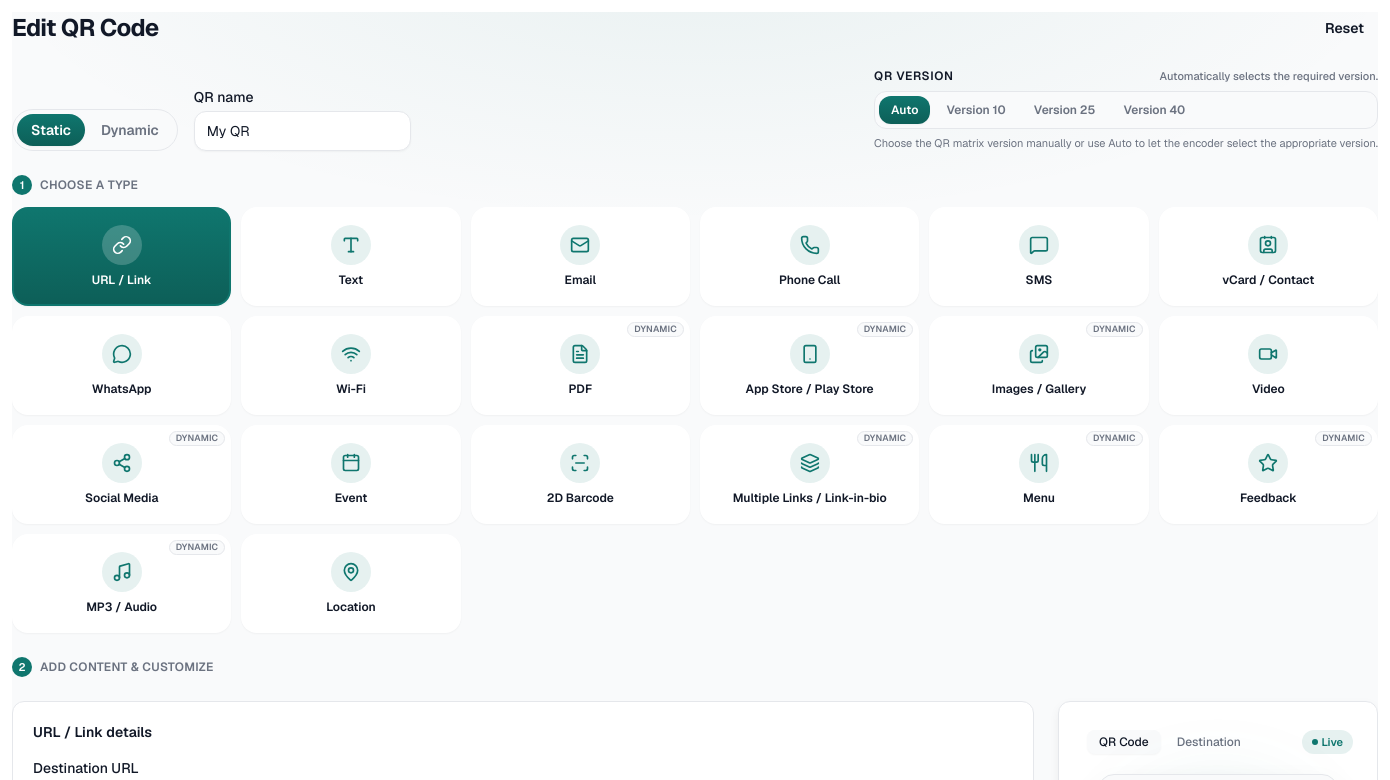
Test case: QRGeneratorShell edit variant (Module 2.7) › Reset restores the initial name and clears the dirty indicator
In the field labelled "QR name": (302, 131) x1=194 y1=111 x2=411 y2=151, type " updated"
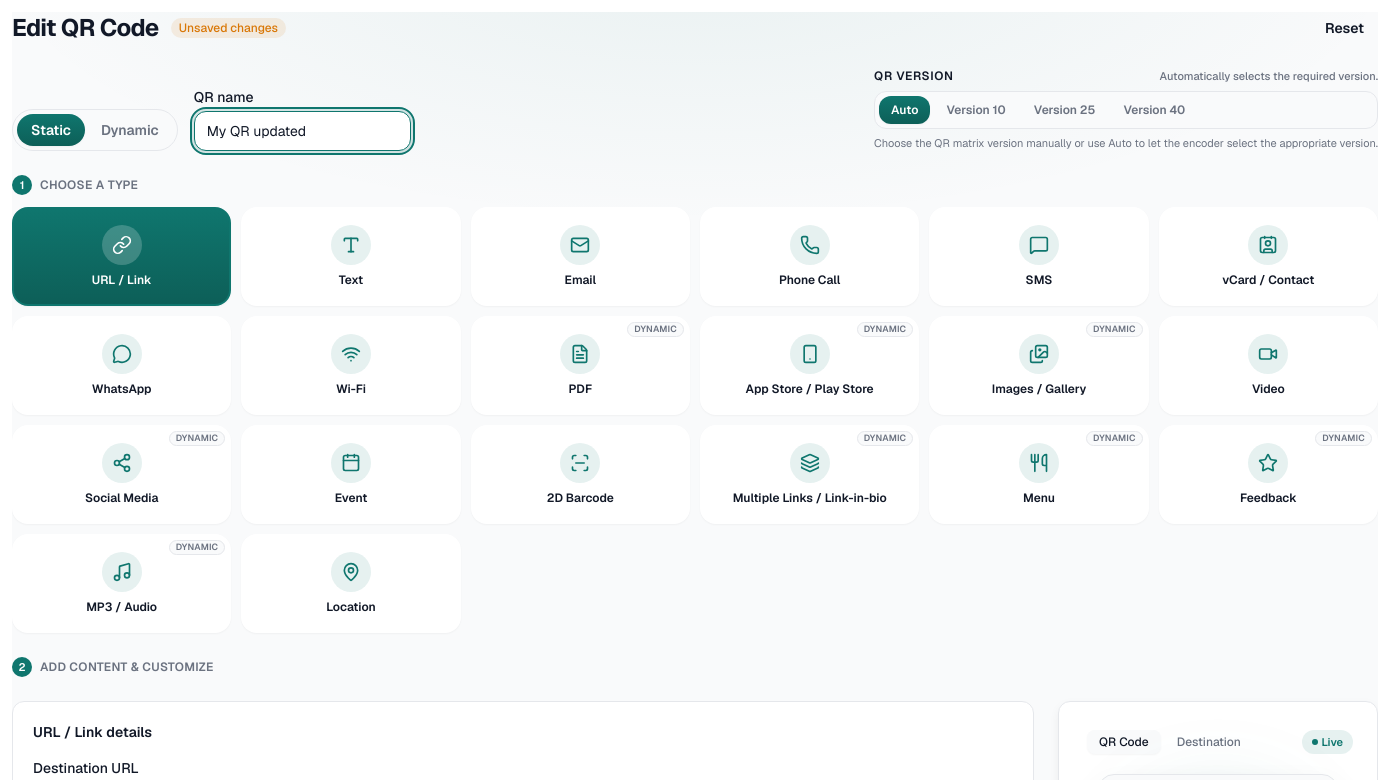
expect the text "Unsaved changes" is shown: met, box x1=171 y1=18 x2=286 y2=38
Click the button "Reset": (1344, 28) x1=1311 y1=12 x2=1378 y2=44
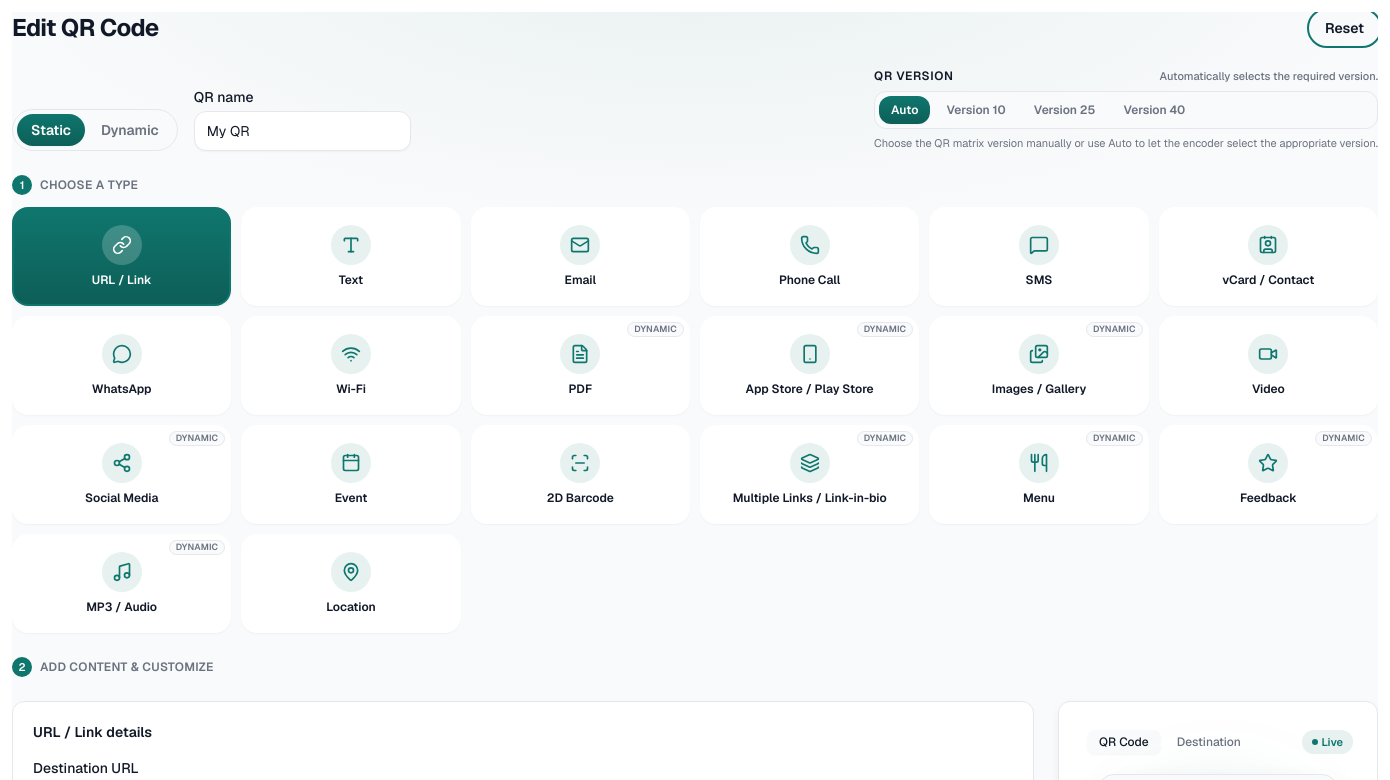
expect the field labelled "QR name" holds "My QR": met, box x1=194 y1=111 x2=411 y2=151
expect the text "Unsaved changes" is gone: met
